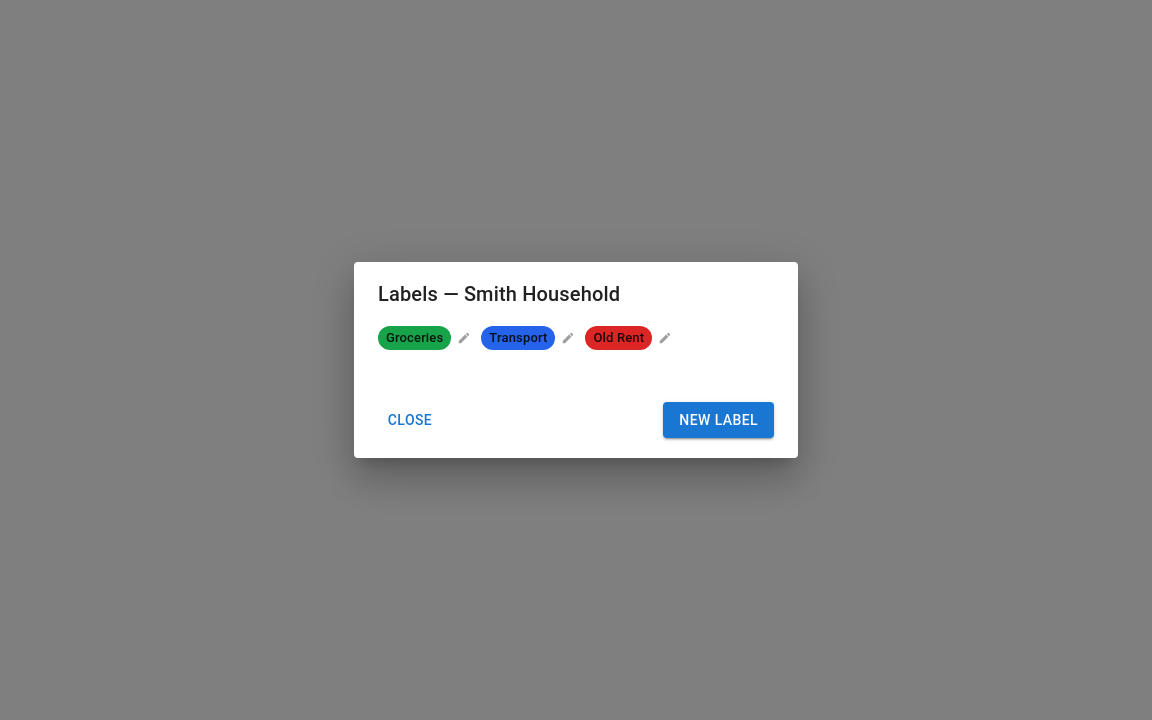
Test: LabelManagementDialog category picker › pre-fills the category picker with the label's existing category in edit mode
Expected: the text "Groceries" is shown, [386,330,443,345]
Click the button named "edit transport" at (568, 338), box [560,329,578,347]
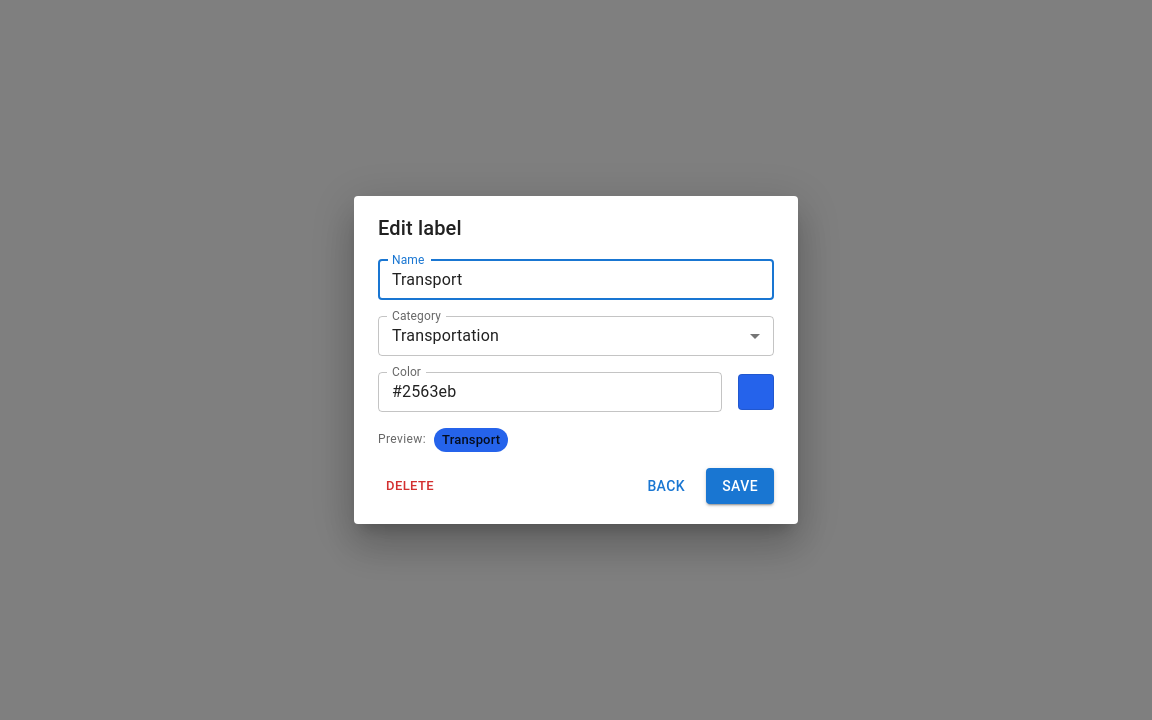
Result: the dropdown "Transportation" is shown at [392,326,499,345]
